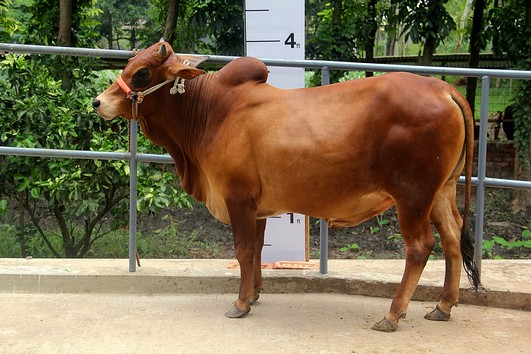cow: (86, 33, 481, 338)
